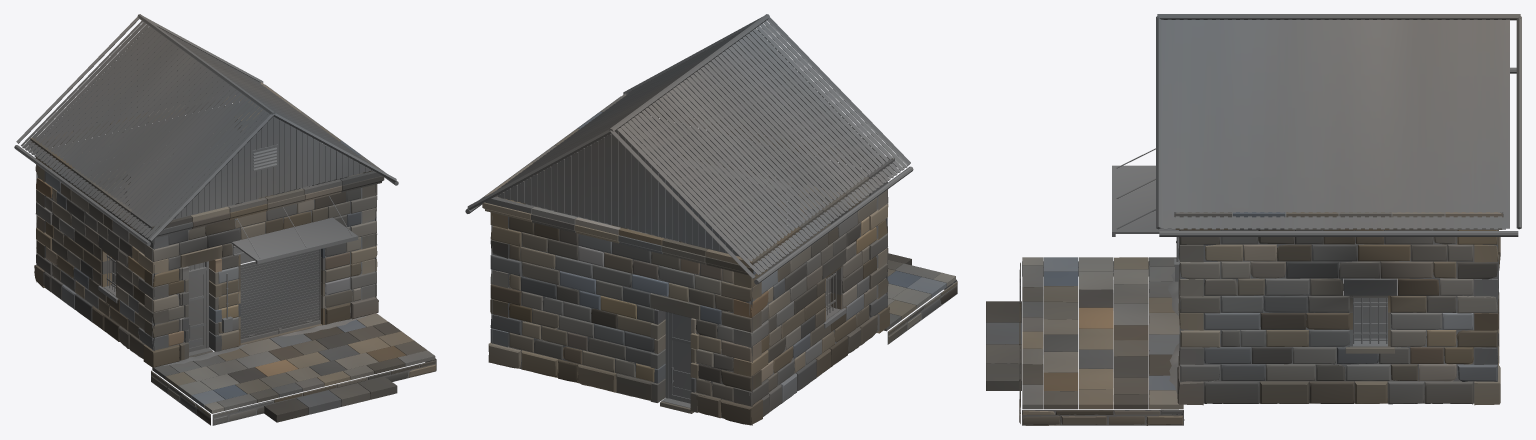
Rendered from FieldSupply_LOD0.glb.
The picture shows the model from 3 angles, left to right: view 1: azimuth 30°, elevation 25°; view 2: azimuth 150°, elevation 25°; view 3: azimuth 270°, elevation 25°; orthographic projection. The views are drawn at different scales.
Parts seen in each view (by area): view 1: FieldSupply_Masonry_LOD0, FieldSupply_Roof_LOD0, FieldSupply_Metal_LOD0, FieldSupply_Porch_LOD0, FieldSupply_Trim_LOD0, FieldSupply_Sand_LOD0; view 2: FieldSupply_Masonry_LOD0, FieldSupply_Roof_LOD0, FieldSupply_Metal_LOD0, FieldSupply_Trim_LOD0, FieldSupply_Porch_LOD0; view 3: FieldSupply_Roof_LOD0, FieldSupply_Masonry_LOD0, FieldSupply_Porch_LOD0, FieldSupply_Metal_LOD0, FieldSupply_Trim_LOD0, FieldSupply_Glass_LOD0, FieldSupply_Sand_LOD0.
Boxes of the visible parts, bbox=[...] form: FieldSupply_Masonry_LOD0: bbox=[34, 100, 378, 367]; FieldSupply_Roof_LOD0: bbox=[21, 20, 372, 240]; FieldSupply_Metal_LOD0: bbox=[14, 14, 398, 356]; FieldSupply_Porch_LOD0: bbox=[151, 313, 436, 425]; FieldSupply_Trim_LOD0: bbox=[29, 82, 384, 359]; FieldSupply_Sand_LOD0: bbox=[104, 285, 367, 365]; FieldSupply_Masonry_LOD0: bbox=[488, 114, 889, 425]; FieldSupply_Roof_LOD0: bbox=[496, 19, 909, 275]; FieldSupply_Metal_LOD0: bbox=[465, 14, 913, 408]; FieldSupply_Trim_LOD0: bbox=[482, 93, 896, 412]; FieldSupply_Porch_LOD0: bbox=[660, 253, 957, 413]; FieldSupply_Roof_LOD0: bbox=[1159, 19, 1509, 229]; FieldSupply_Masonry_LOD0: bbox=[1177, 228, 1500, 405]; FieldSupply_Porch_LOD0: bbox=[986, 257, 1184, 425]; FieldSupply_Metal_LOD0: bbox=[1112, 14, 1521, 343]; FieldSupply_Trim_LOD0: bbox=[1174, 212, 1503, 353]; FieldSupply_Glass_LOD0: bbox=[1352, 298, 1387, 338]; FieldSupply_Sand_LOD0: bbox=[1168, 271, 1387, 393].
Bounding box in the file's own units: 8.74 × 8.27 × 11.92.
